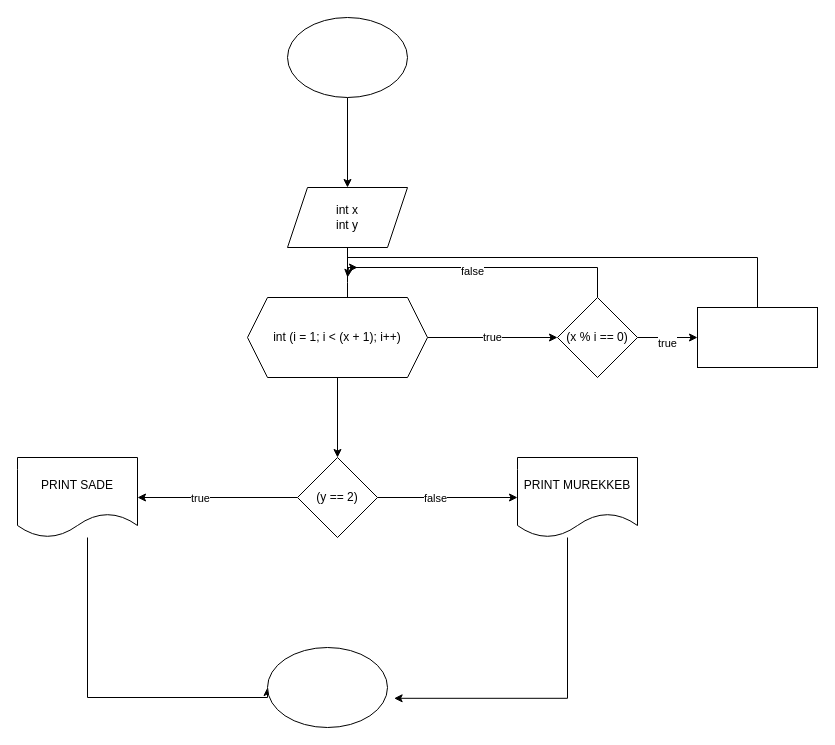
This 835x745 diagram has some shape labels left out. The centre of each missing label's shape, as x and y in pixels:
"end" belongs at point 327,687.
"start" belongs at point 347,57.
"y++" belongs at point 757,337.
